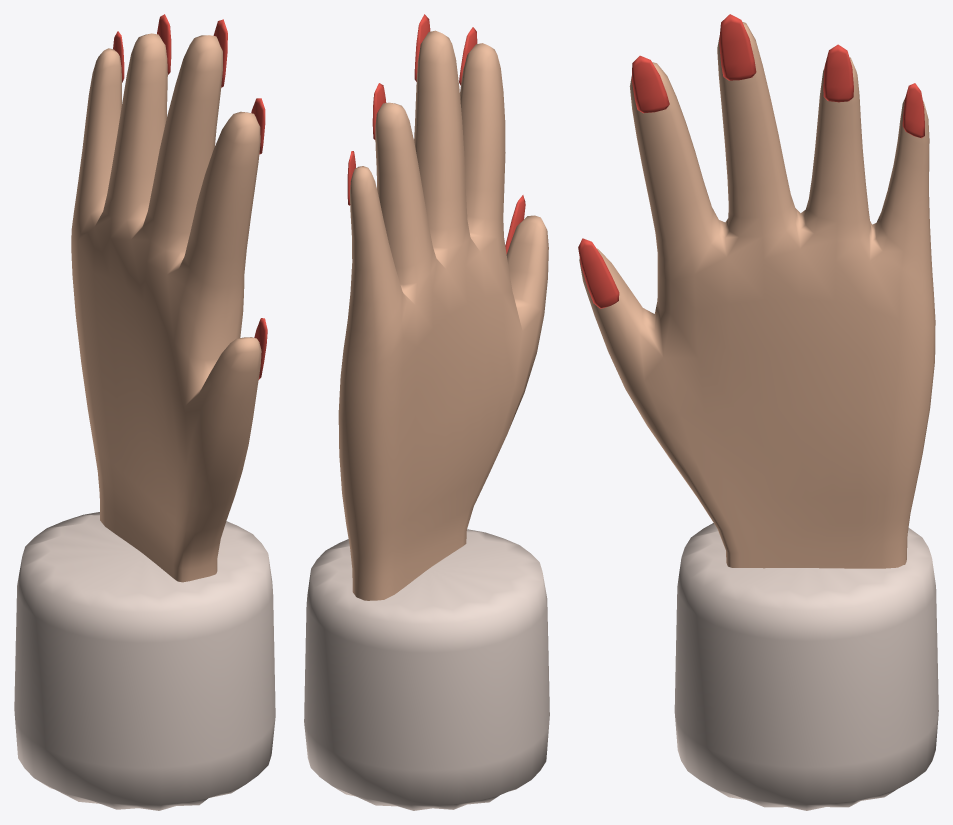
Rendered from hand.fbx.
The picture shows the model from 3 angles, left to right: view 1: azimuth 30°, elevation 25°; view 2: azimuth 150°, elevation 25°; view 3: azimuth 270°, elevation 25°; orthographic projection. The views are drawn at different scales.
Parts seen in each view (by area): view 1: Cube.004; view 2: Cube.004; view 3: Cube.004.
Boxes of the visible parts, x1,y1,x2,y2 form: Cube.004: (14,14,275,810); Cube.004: (304,14,549,810); Cube.004: (578,14,938,810).
Bounding box in the file's own units: 194 × 631 × 265.
